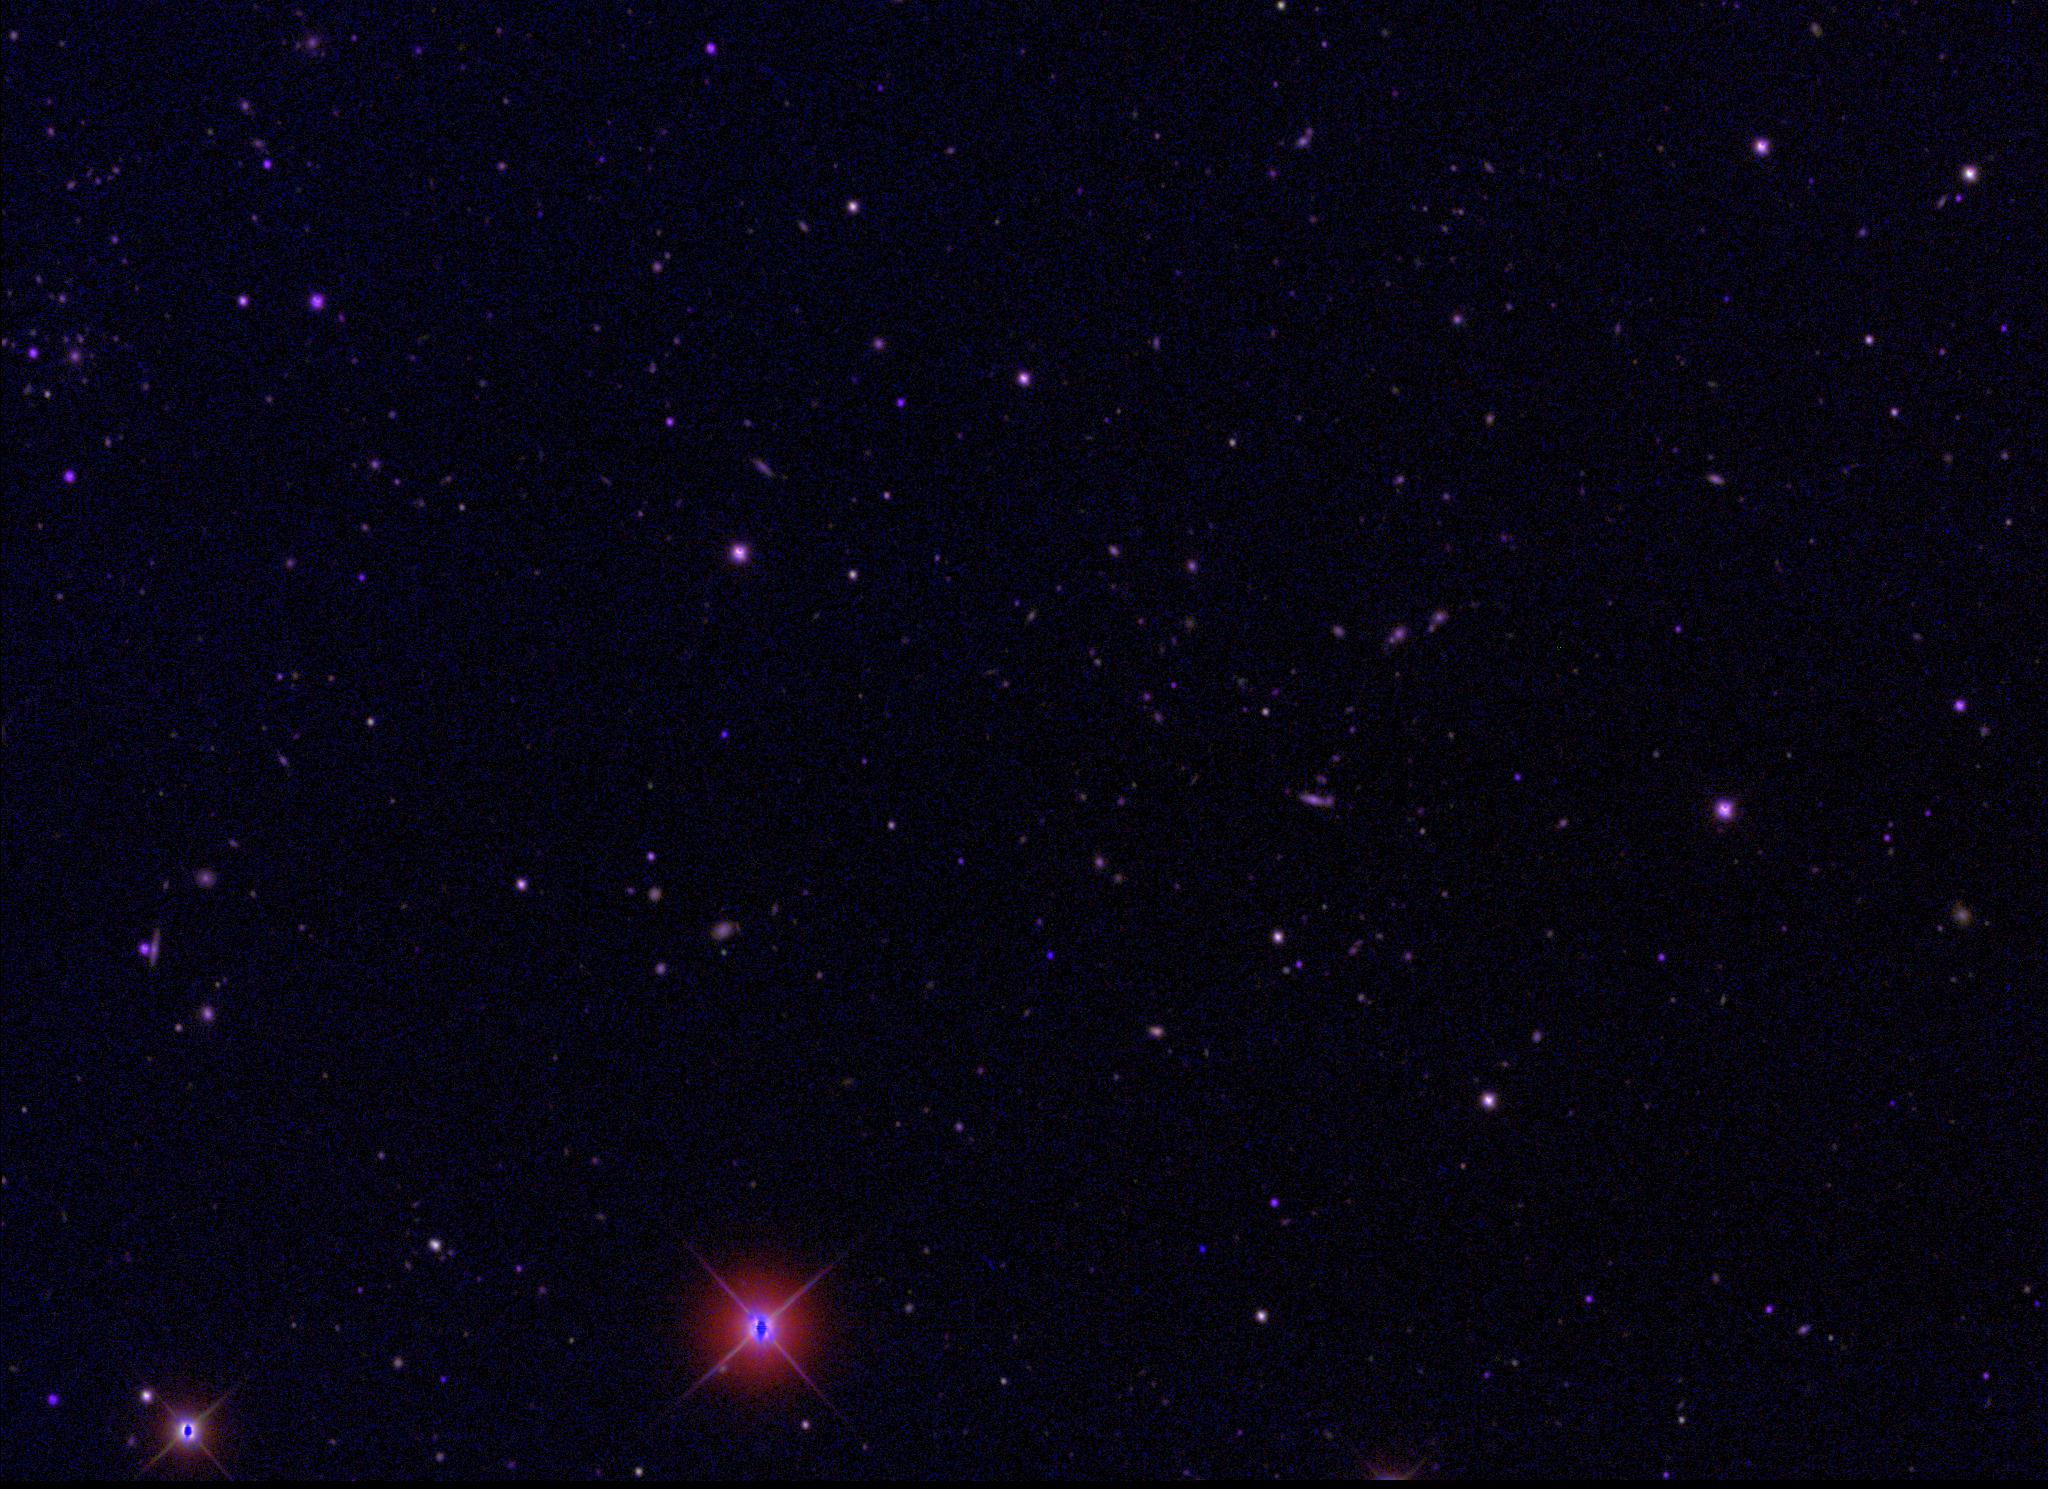L: (1196, 1242, 1208, 1257)
